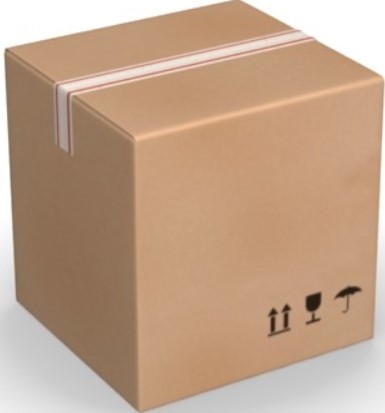stock: (5, 1, 384, 413)
